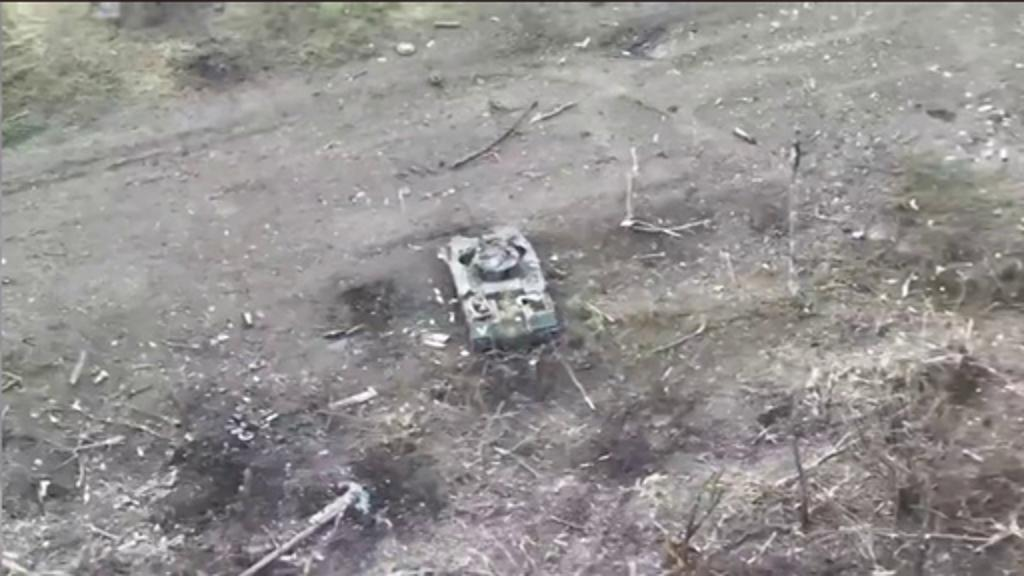APC-IFV: (434, 220, 566, 354)
